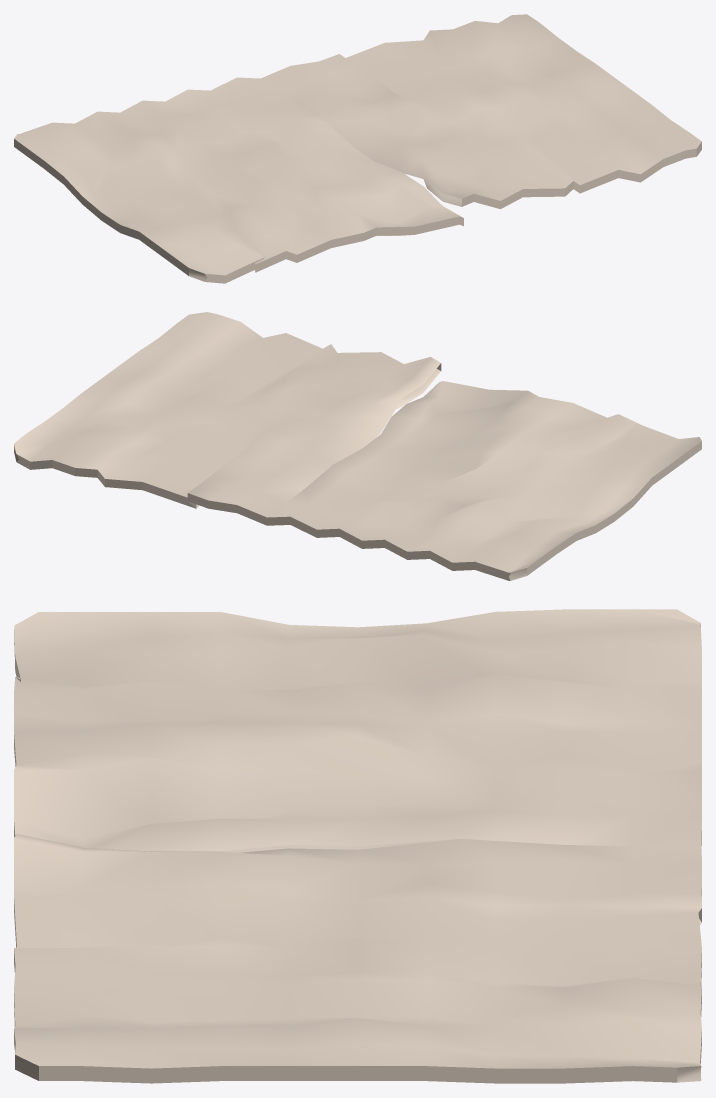
Rendered from chuanglian.fbx.
The picture shows the model from 3 angles, top to bottom: view 1: azimuth 30°, elevation 25°; view 2: azimuth 150°, elevation 25°; view 3: azimuth 270°, elevation 25°; orthographic projection. The views are drawn at different scales.
Parts seen in each view (by area): view 1: chuanglian; view 2: chuanglian; view 3: chuanglian.
Boxes of the visible parts, box(x1,y1,x2,y2) form: chuanglian: box(14, 14, 701, 283); chuanglian: box(14, 312, 701, 580); chuanglian: box(14, 609, 701, 1083).
Bounding box in the file's own units: 137 × 10.65 × 87.07.
